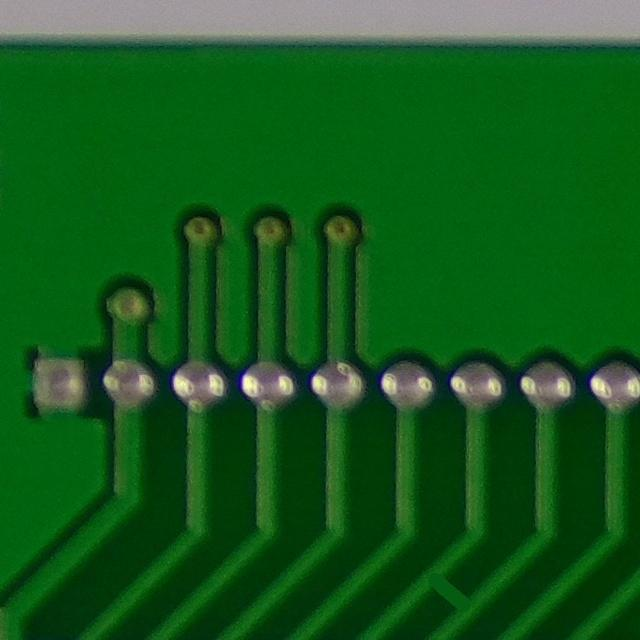short: (406, 564, 487, 623)
